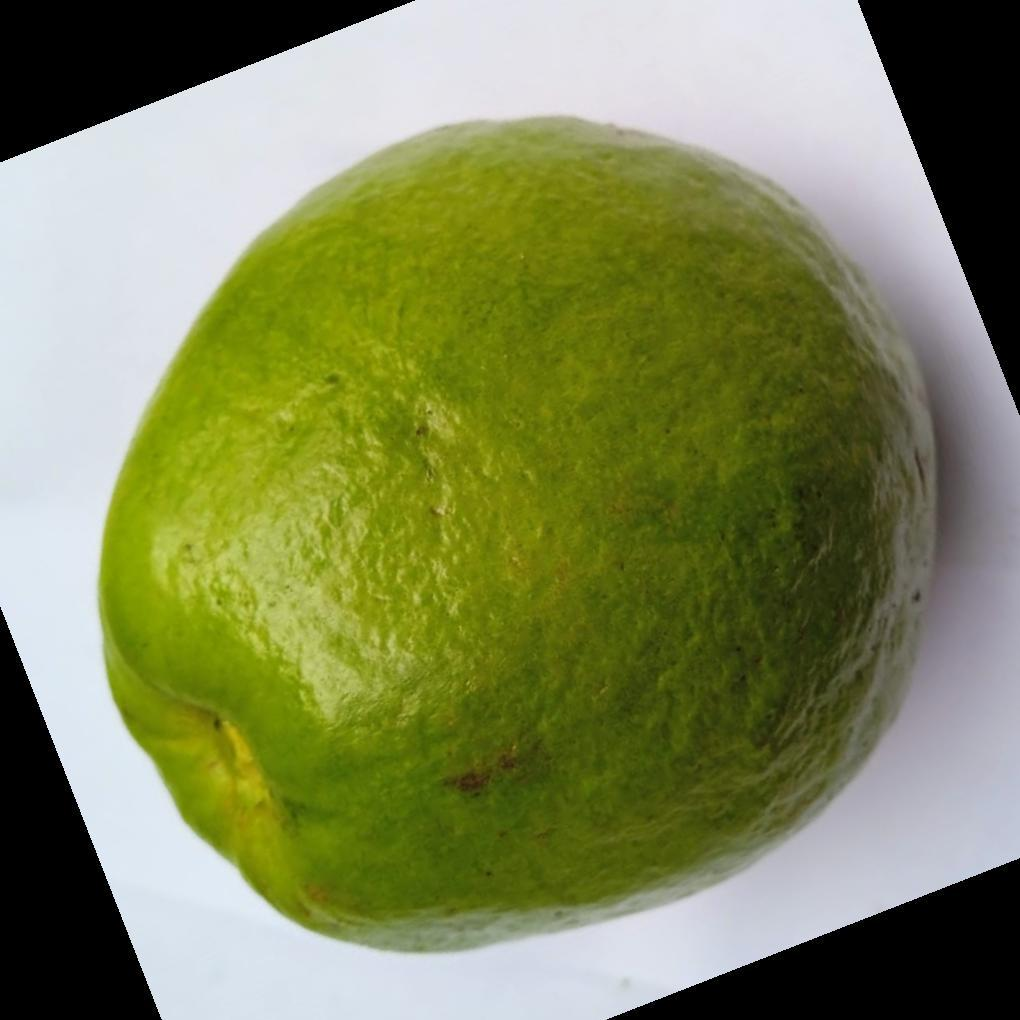FreshGuava: (94, 117, 937, 960)
